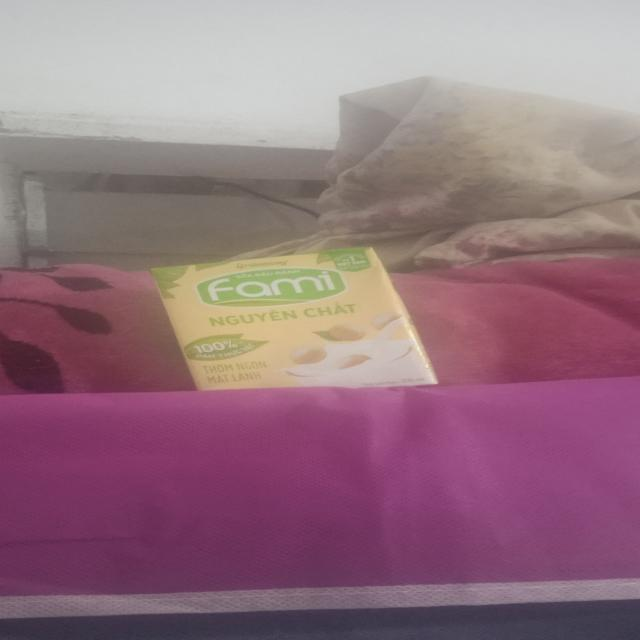Fami: (151, 246, 428, 392)
